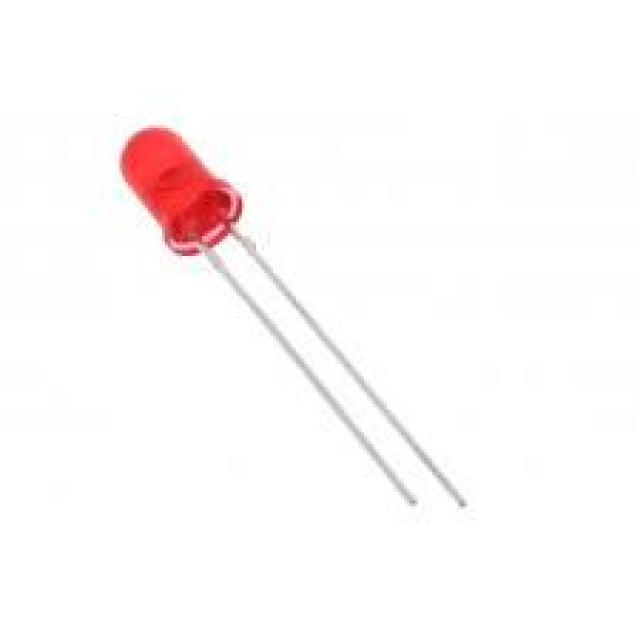Led: (121, 132, 464, 506)
